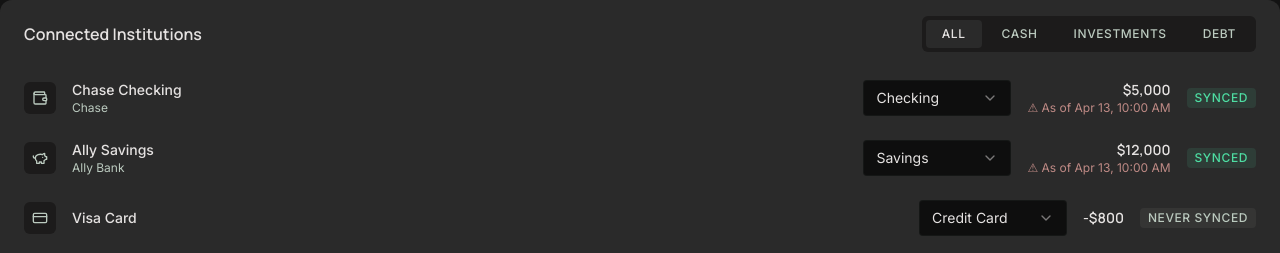
Test: ConnectedInstitutions › filters accounts by tab selection
// Click CASH tab
Click the button "CASH".
click(1020, 34)  # box [986,20,1054,48]
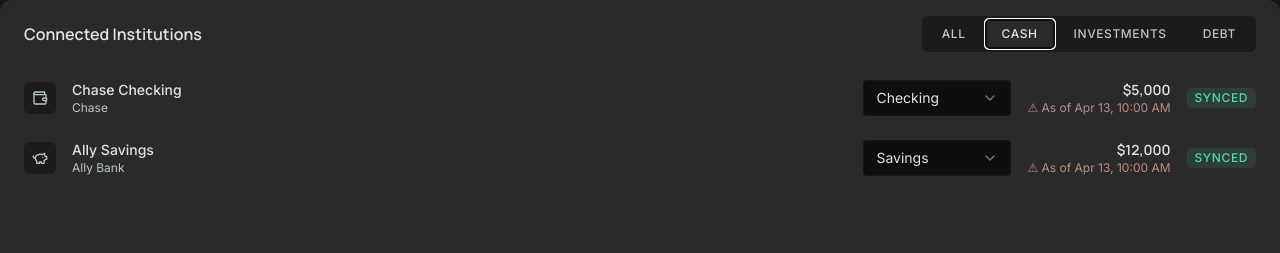
Expected: the text "Chase Checking" is shown, [72,80,182,100]
Now the button "Visa Card" is gone
// Click DEBT tab
Click the button "DEBT".
click(1219, 34)  # box [1187,20,1252,48]
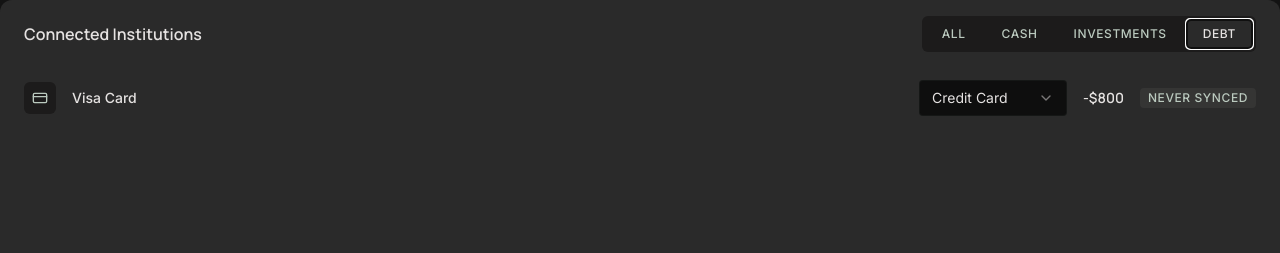
Now the button "Chase Checking" is gone
Now the text "Visa Card" is shown, box [72,88,137,108]
